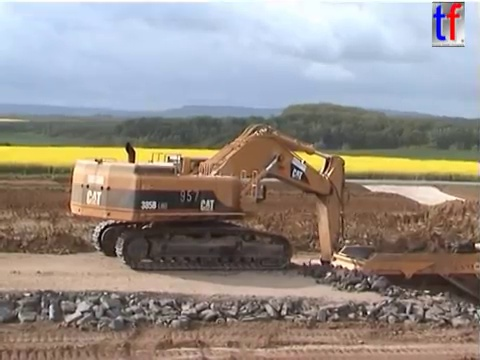excavator: (66, 121, 359, 303)
truck: (327, 240, 480, 330)
